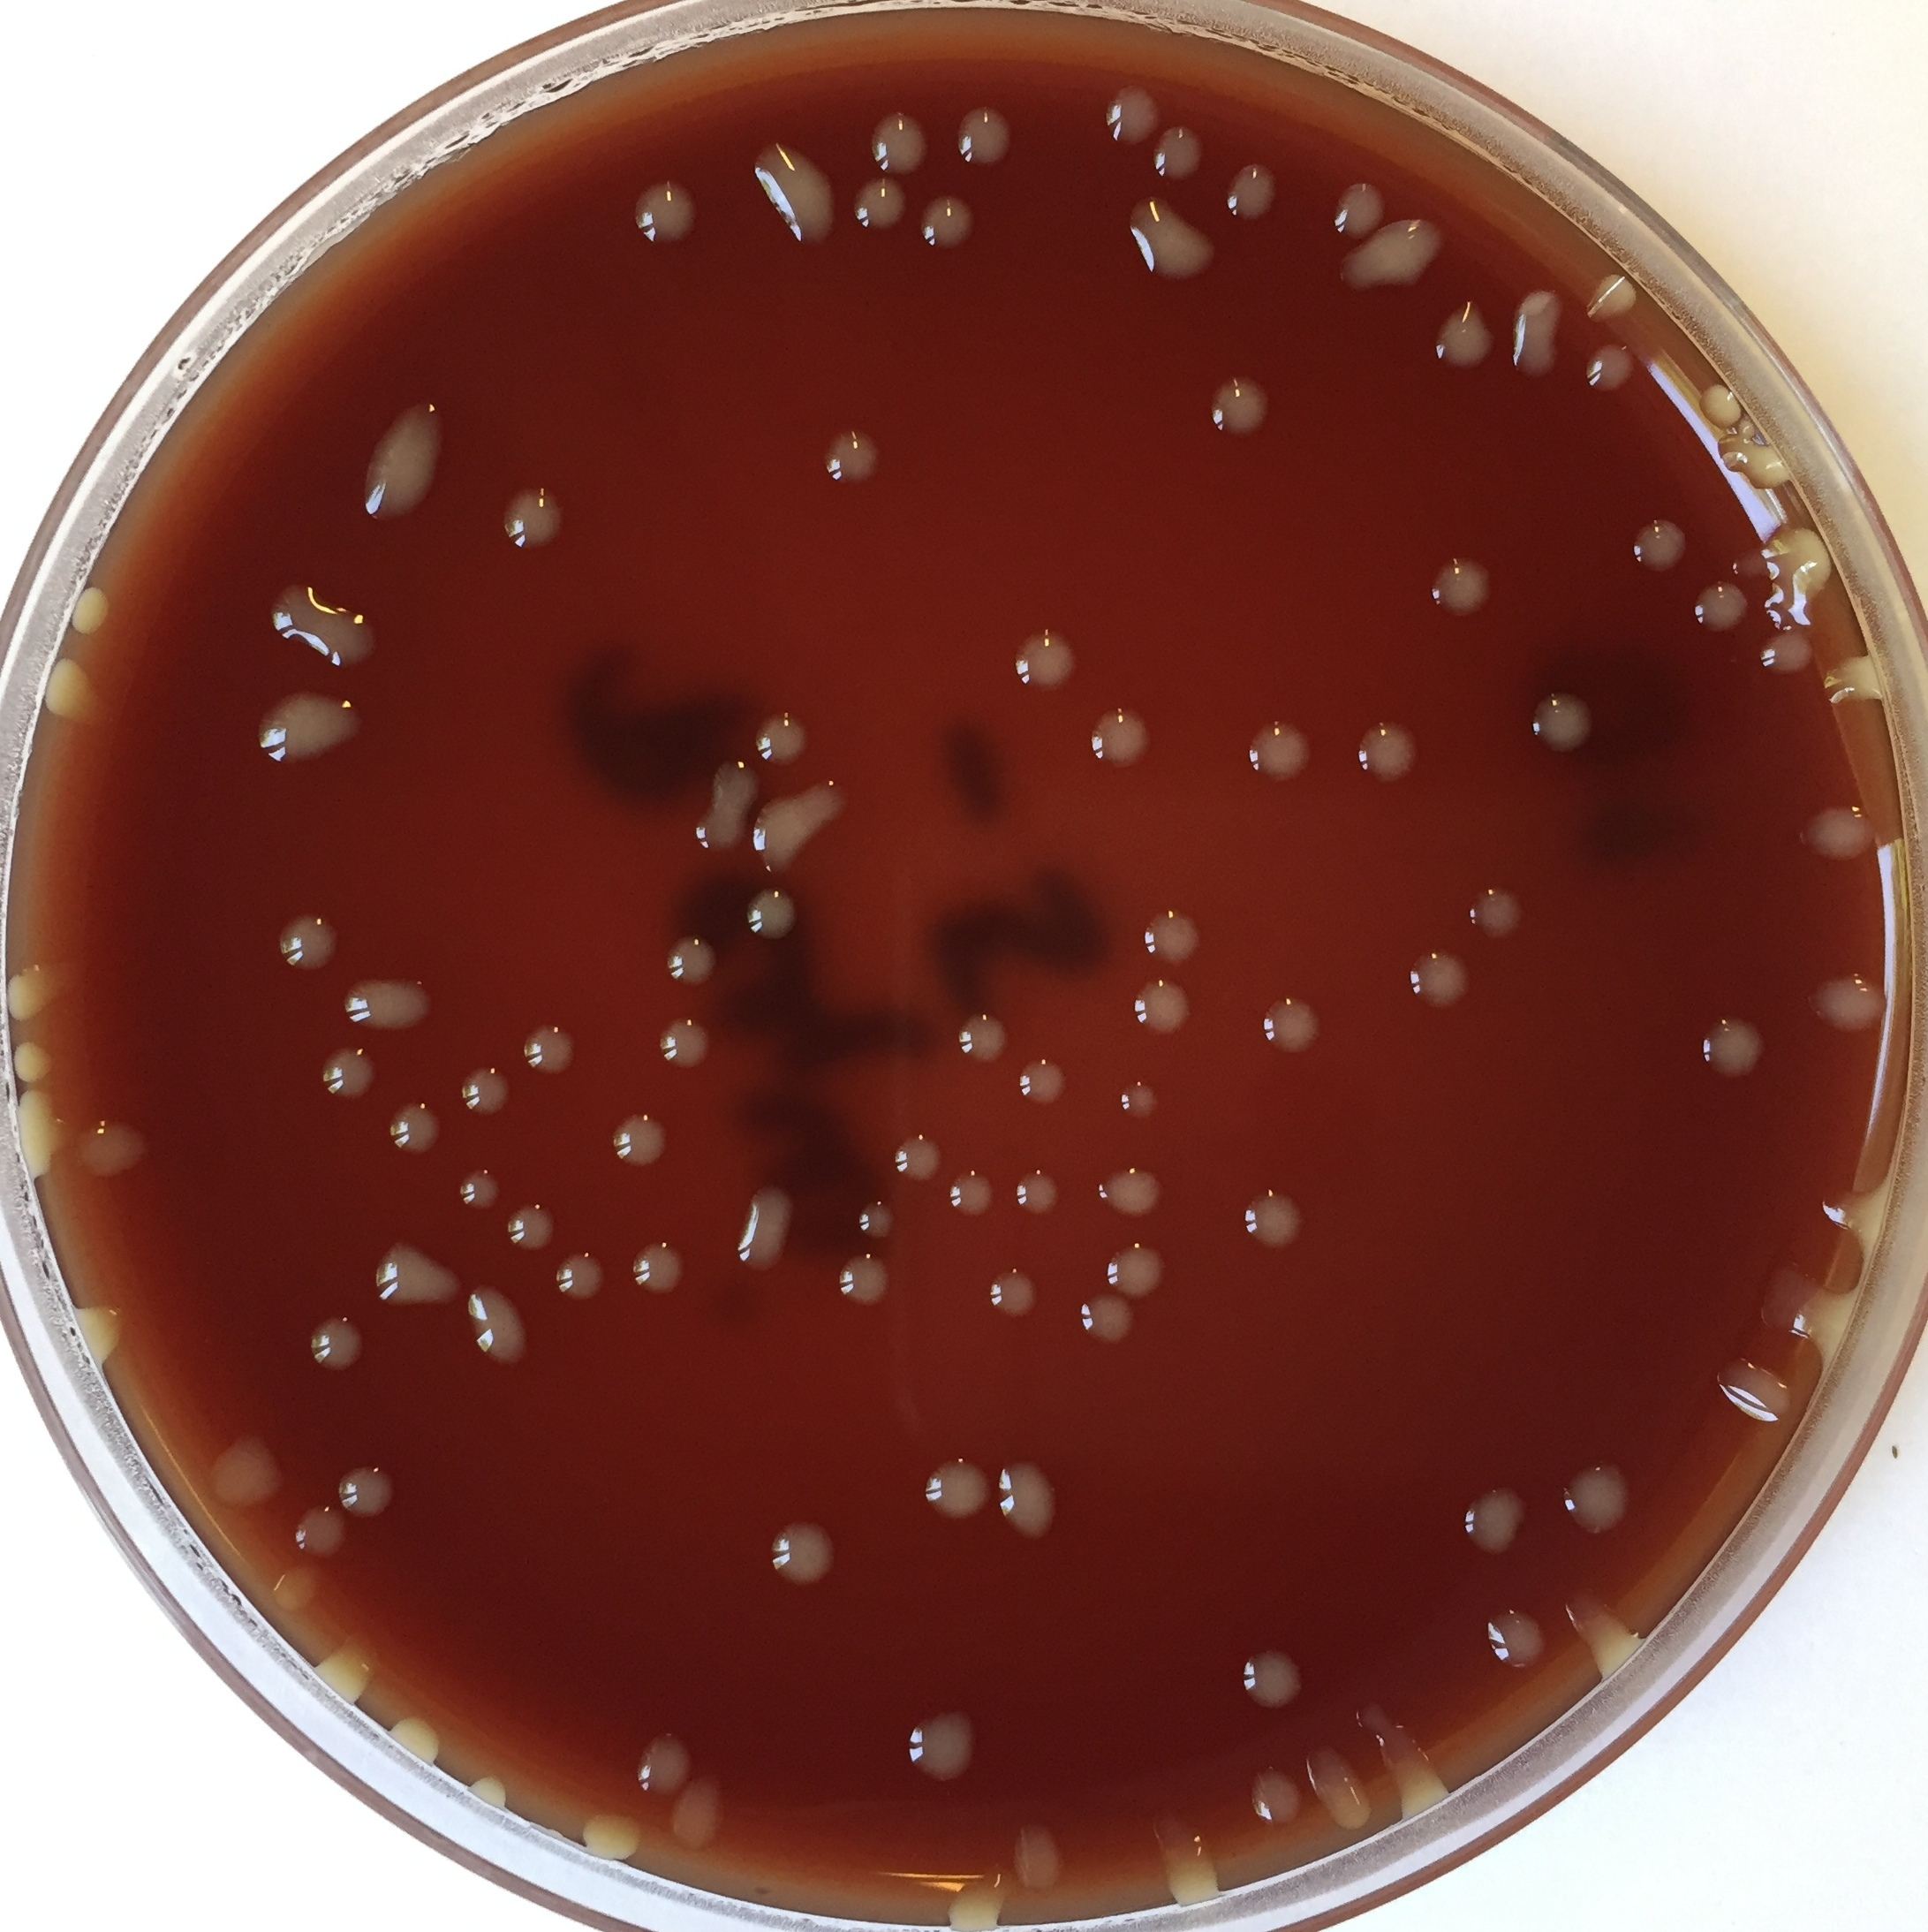sp19: (1352, 1697, 1451, 1830), (358, 397, 457, 528), (745, 138, 846, 251), (261, 583, 387, 671), (252, 687, 374, 774), (1759, 1259, 1861, 1362), (1751, 517, 1840, 632), (1555, 1581, 1644, 1688), (1347, 208, 1455, 297), (759, 774, 853, 869), (1141, 1807, 1225, 1907), (335, 970, 452, 1040), (1128, 194, 1218, 284), (198, 1430, 293, 1515), (364, 1236, 466, 1312), (1815, 1178, 1902, 1266), (1298, 1740, 1379, 1833), (459, 1282, 533, 1376), (1555, 1455, 1635, 1540), (908, 1701, 982, 1789), (1711, 1355, 1799, 1429), (72, 1118, 162, 1190), (733, 1180, 798, 1279), (996, 1452, 1065, 1543), (1803, 966, 1896, 1033), (629, 178, 715, 251), (1510, 288, 1577, 380), (1423, 549, 1502, 625), (1086, 703, 1165, 779), (4, 955, 85, 1030), (1713, 420, 1796, 493), (1525, 687, 1605, 761), (941, 1861, 1024, 1932), (309, 1635, 387, 1709), (1243, 717, 1324, 788), (766, 1512, 840, 1588), (39, 657, 117, 729), (1797, 798, 1880, 865), (1201, 373, 1284, 440), (922, 1452, 998, 1524), (9, 1090, 65, 1185), (64, 1300, 134, 1374), (1398, 952, 1480, 1015), (1460, 1485, 1531, 1558), (1351, 719, 1427, 786), (1093, 1164, 1174, 1226), (1460, 881, 1538, 945), (496, 487, 574, 551), (1697, 1010, 1769, 1077), (1126, 973, 1199, 1038), (634, 1725, 692, 1805), (1261, 991, 1329, 1058), (1013, 625, 1081, 694), (915, 189, 983, 256), (1236, 1648, 1307, 1713), (869, 104, 932, 177), (304, 1309, 364, 1385), (1813, 650, 1889, 710), (747, 706, 814, 774), (334, 1460, 404, 1522), (274, 913, 344, 975), (1328, 175, 1393, 240), (1487, 1604, 1548, 1672), (1239, 1189, 1308, 1250), (1013, 1819, 1068, 1895), (1245, 1761, 1308, 1826), (627, 1240, 694, 1302), (1105, 81, 1165, 150), (1628, 512, 1691, 576), (1428, 300, 1492, 364), (823, 426, 886, 489), (745, 885, 810, 947), (839, 1247, 899, 1314), (1102, 1240, 1171, 1298), (1225, 154, 1284, 223), (383, 1709, 454, 1766), (64, 583, 127, 645), (955, 1007, 1015, 1072), (1690, 577, 1757, 636), (609, 1113, 678, 1169), (1073, 1289, 1142, 1346), (1137, 911, 1206, 968), (952, 106, 1019, 162), (454, 1065, 521, 1121), (320, 1042, 381, 1102), (383, 1100, 447, 1158), (664, 931, 722, 994), (674, 1780, 724, 1853), (650, 1015, 717, 1068), (496, 1201, 558, 1257), (291, 1503, 353, 1559), (983, 1263, 1045, 1319), (11, 1031, 67, 1093), (519, 1023, 581, 1079), (849, 177, 913, 231), (888, 1128, 948, 1185), (584, 1807, 639, 1865), (1017, 1056, 1077, 1109), (1587, 336, 1638, 397), (941, 1162, 998, 1217), (1153, 122, 1202, 184), (1691, 380, 1746, 433), (696, 811, 747, 864), (1585, 272, 1637, 325), (1760, 630, 1815, 678), (267, 1566, 323, 1612), (1012, 1167, 1068, 1211), (713, 759, 763, 809), (556, 1252, 606, 1300), (454, 1164, 501, 1211), (853, 1197, 902, 1243), (1114, 1081, 1164, 1123), (461, 1771, 507, 1807)
